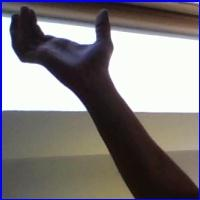space: (7, 5, 126, 84)
